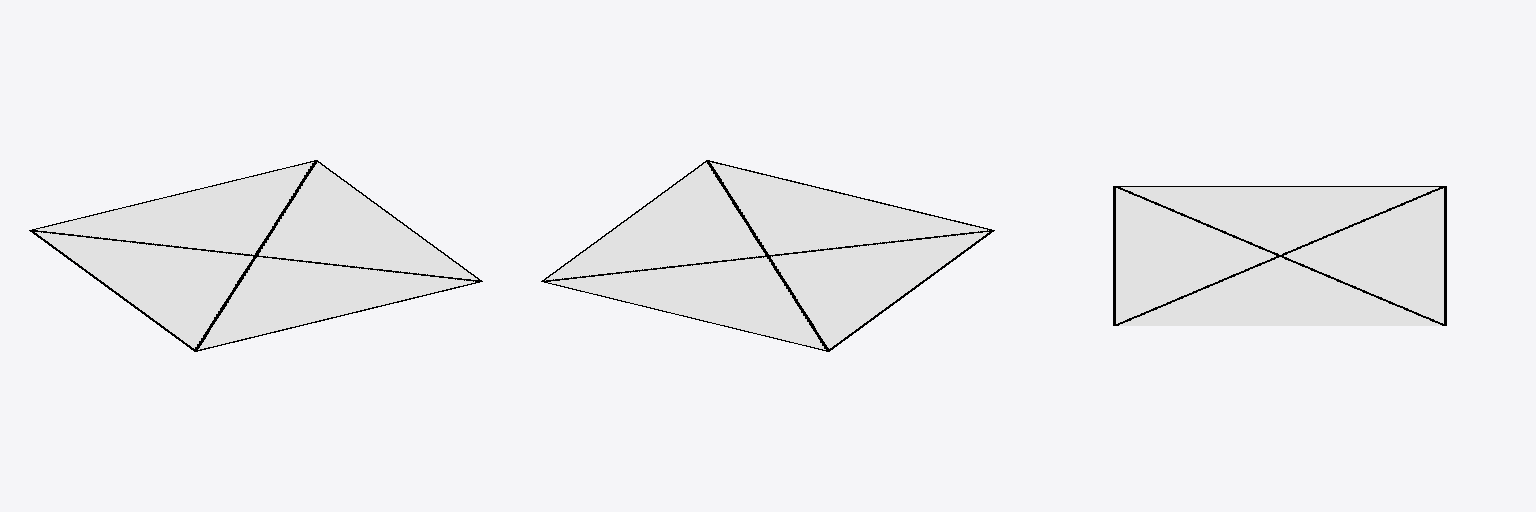
The picture shows the model from 3 angles: view 1: azimuth 30°, elevation 25°; view 2: azimuth 150°, elevation 25°; view 3: azimuth 270°, elevation 25°; orthographic projection.
Visible parts, largest first — view 1: Cube2; view 2: Cube2; view 3: Cube2.
Boxes of the visible parts, box(x1,y1,x2,y2) form: Cube2: box(29, 160, 482, 351); Cube2: box(541, 160, 994, 351); Cube2: box(1113, 186, 1446, 325).
Size of the model in its own units: 2 by 0 by 2.
Materials: 1 (1 with a texture image).